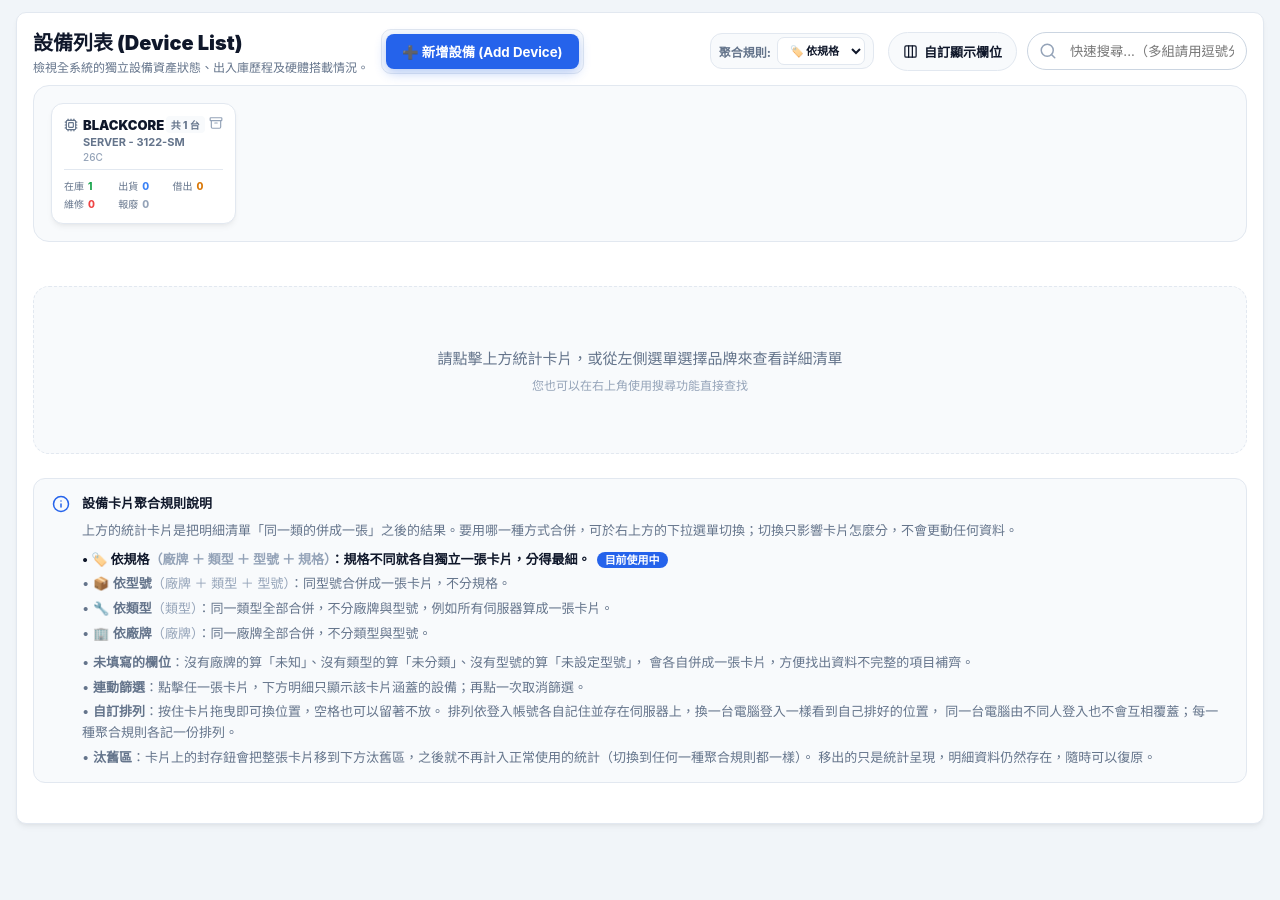
Test case: 設備編輯視窗 › 按序號旁的 ✕ 移除後，那一類型少一個
Step 1. Type "DEV-1" into the field with placeholder "快速搜尋...（多組請用逗號分隔）" → (1137, 51), box top-left (1027, 32), bottom-right (1247, 70)
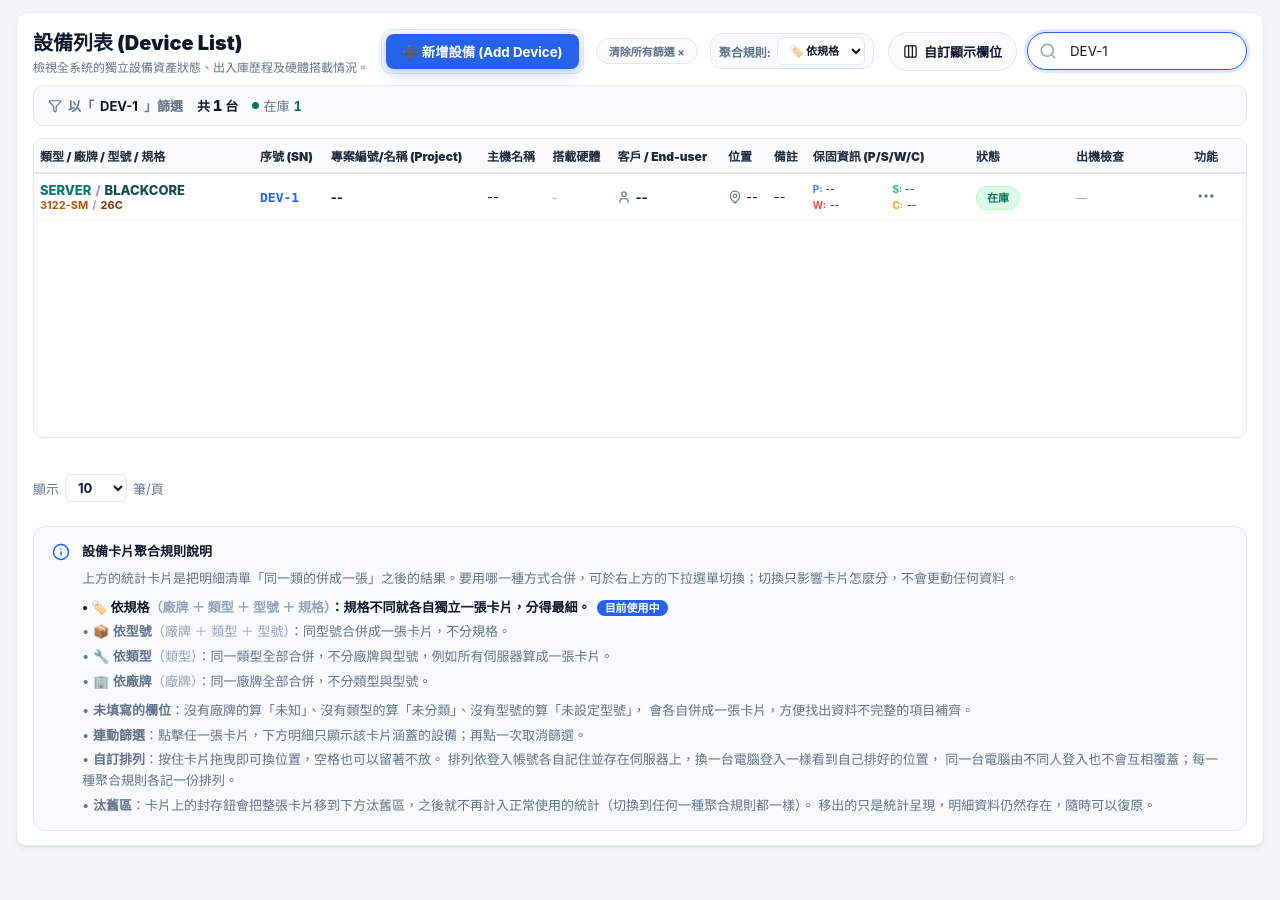
Result: the text "DEV-1" is shown at top-left (254, 173), bottom-right (325, 220)
Step 2. Click the 4th button → (1206, 197), box top-left (1196, 186), bottom-right (1216, 208)
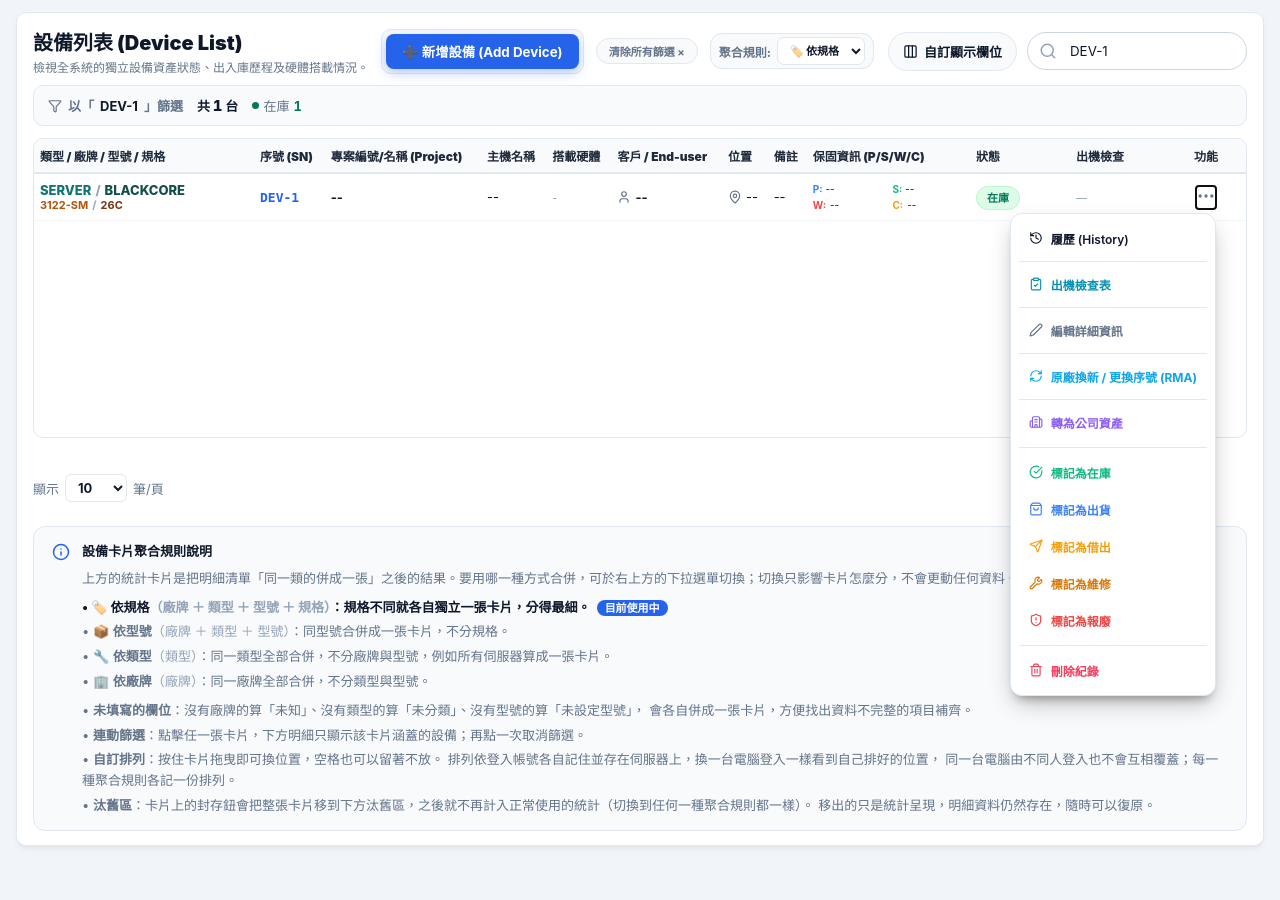
Step 3. Click the button "編輯詳細資訊" → (1113, 330), box top-left (1019, 314), bottom-right (1207, 346)
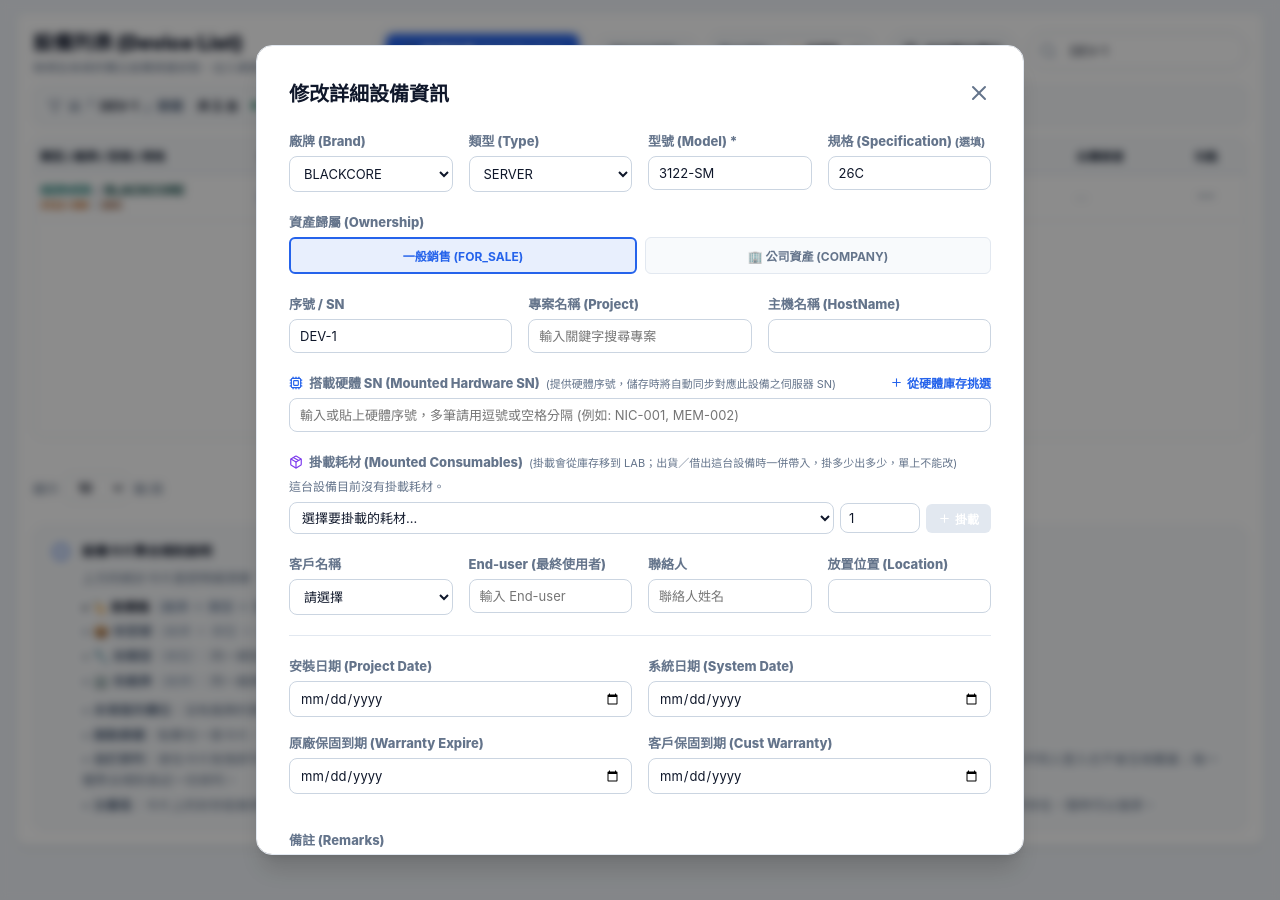
Step 4. Type "RAM-1, RAM-2" into the field with placeholder "輸入或貼上硬體序號，多筆請用逗號或空格分隔 (例如: NIC-001, MEM-002)" → (640, 415), box top-left (289, 398), bottom-right (991, 432)
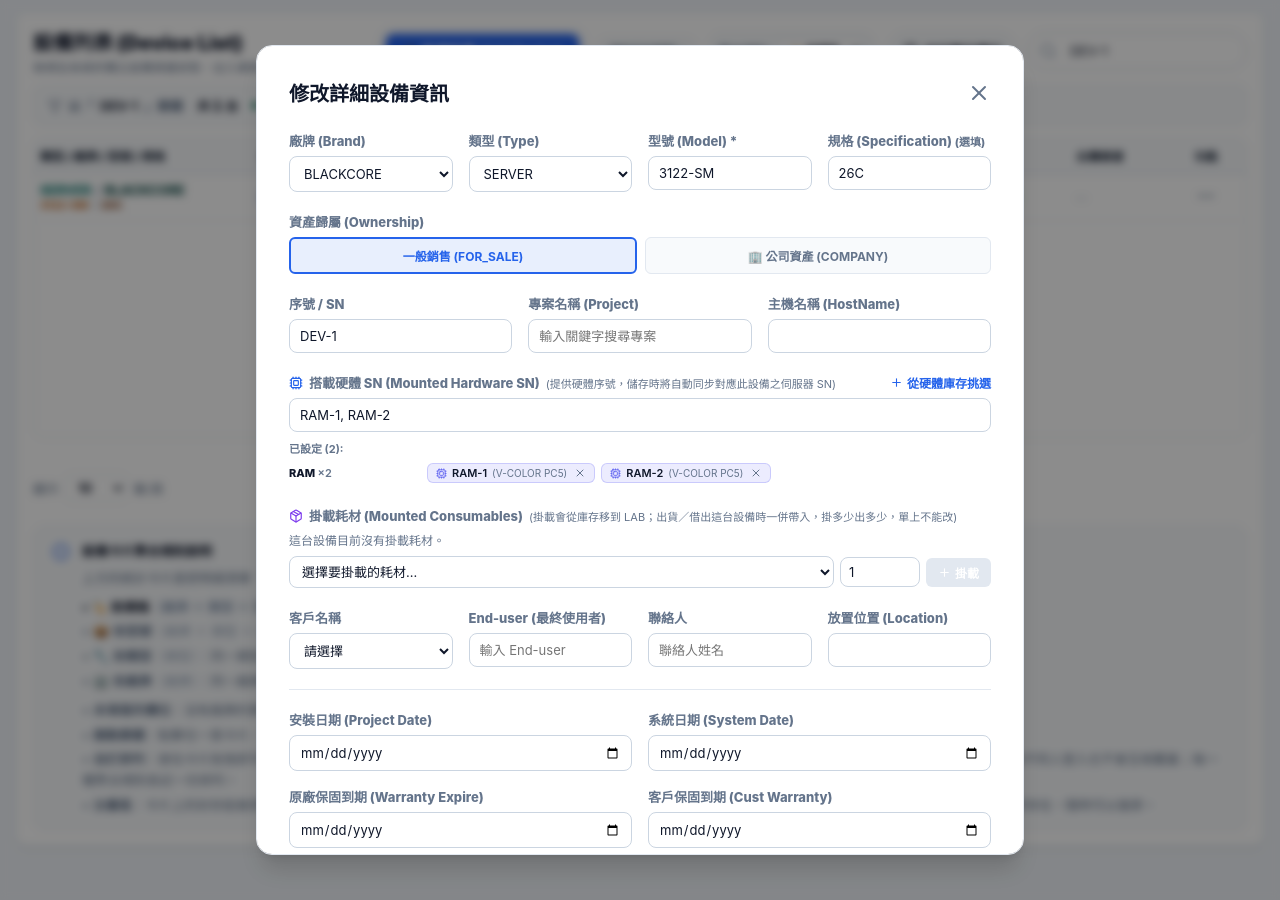
Step 5. Click the 5th icon → (580, 473), box top-left (574, 467), bottom-right (586, 479)
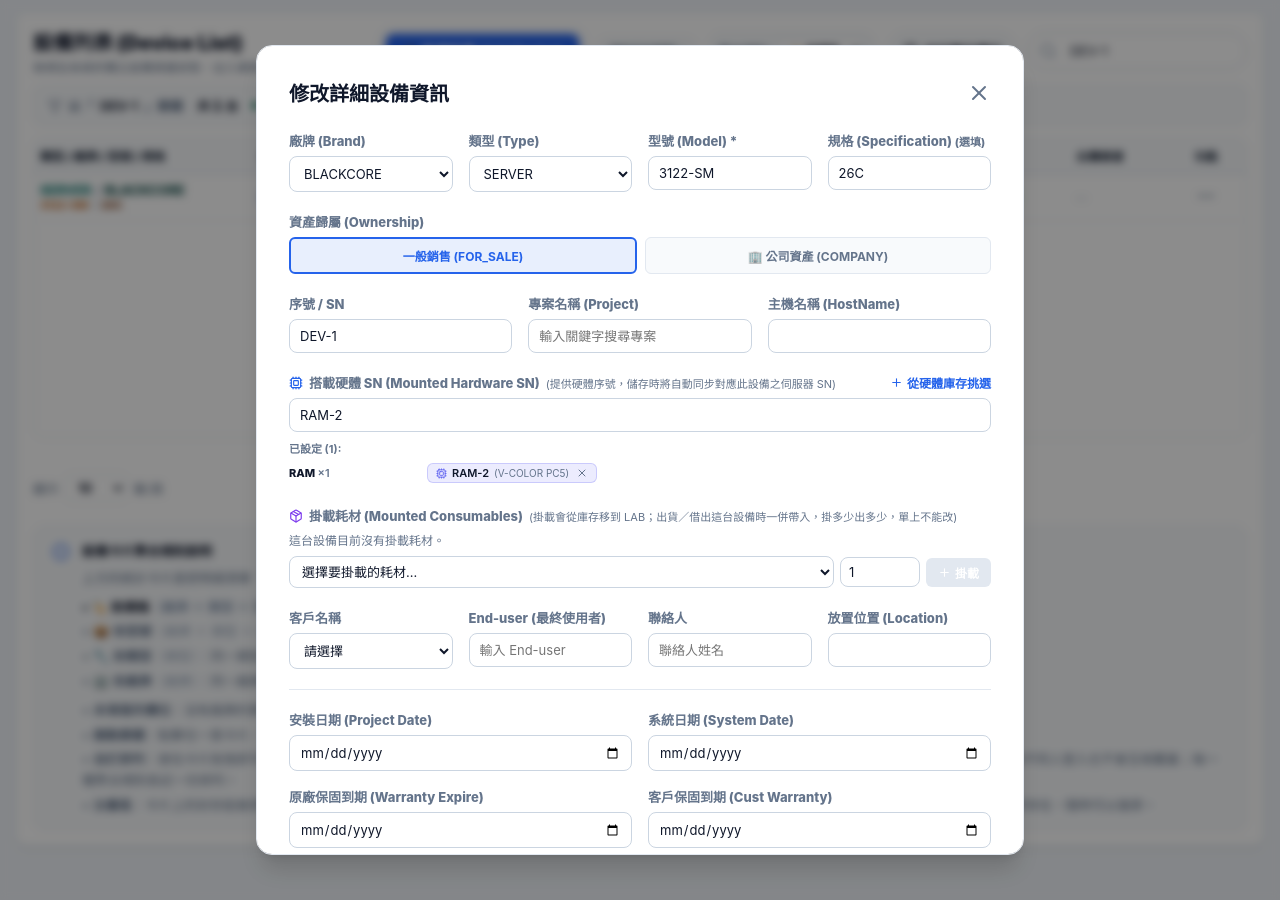
Result: the element showing "RAM ×1" is shown at top-left (289, 466), bottom-right (330, 480)
Result: the field with placeholder "輸入或貼上硬體序號，多筆請用逗號或空格分隔 (例如: NIC-001, MEM-002)" holds "RAM-2" at top-left (289, 398), bottom-right (991, 432)
